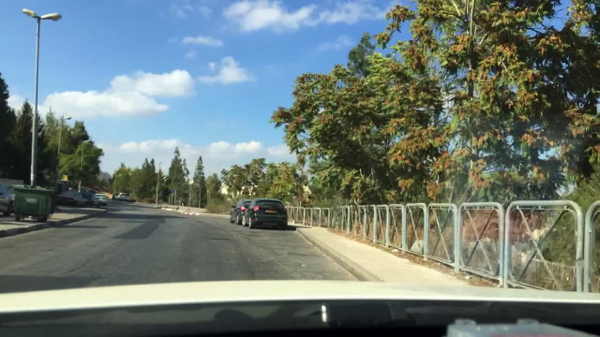car: (242, 198, 288, 229), (228, 199, 253, 227), (0, 185, 12, 218), (59, 192, 83, 206), (89, 193, 110, 206), (112, 193, 131, 202), (82, 192, 91, 206), (9, 185, 16, 202), (112, 193, 118, 200)
traffic sign: (62, 173, 68, 181), (169, 190, 176, 194)
